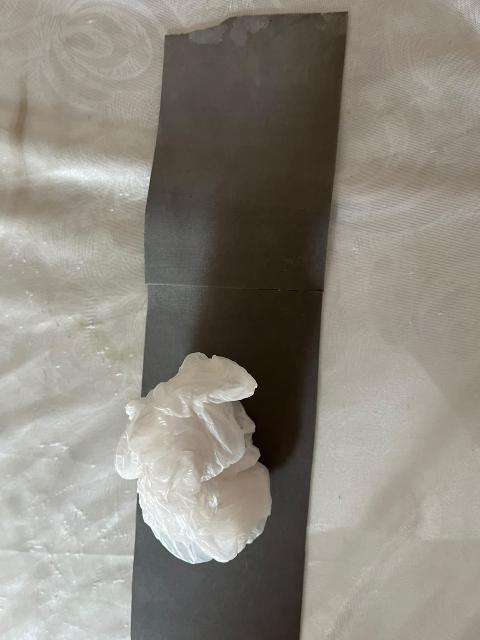LDPE: (64, 291, 353, 631)
